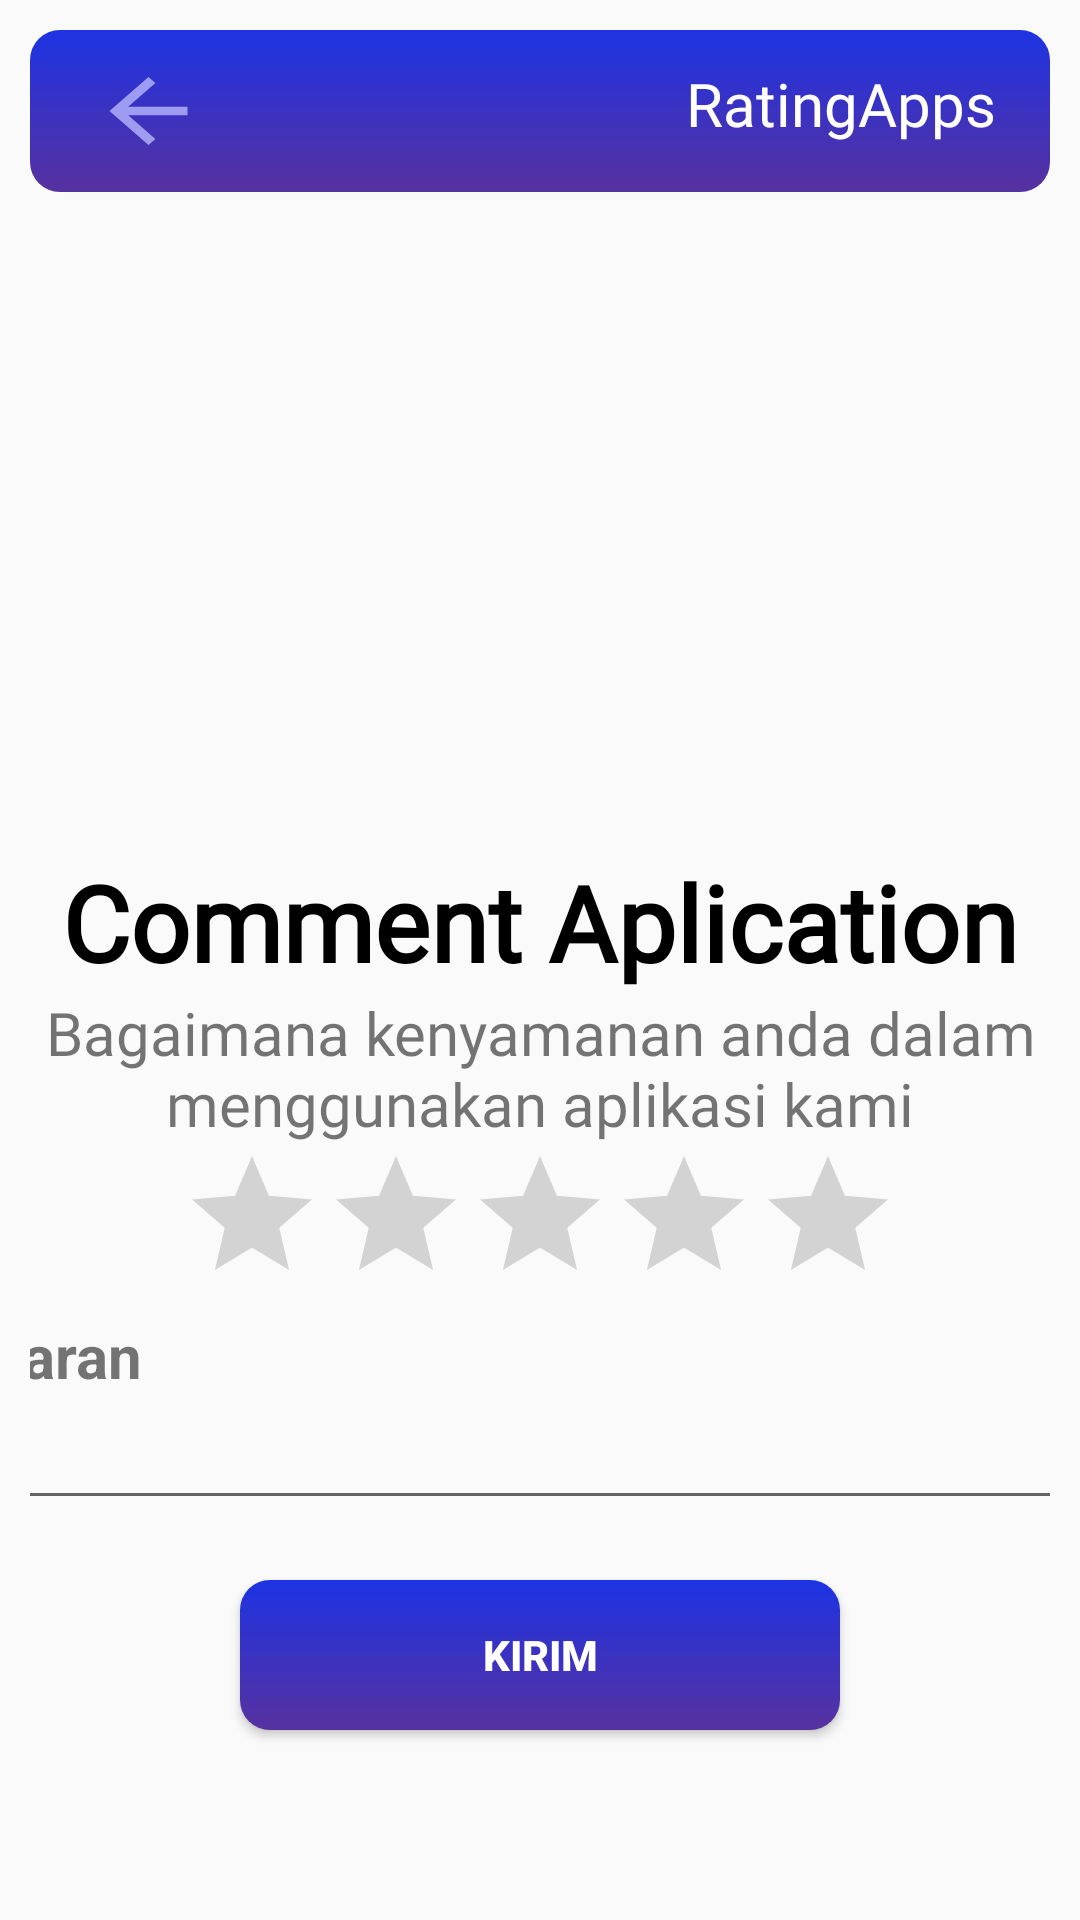

Where to tap for icons on this 1080×1920 app screen, as (x,y):
search back: (148,111)
